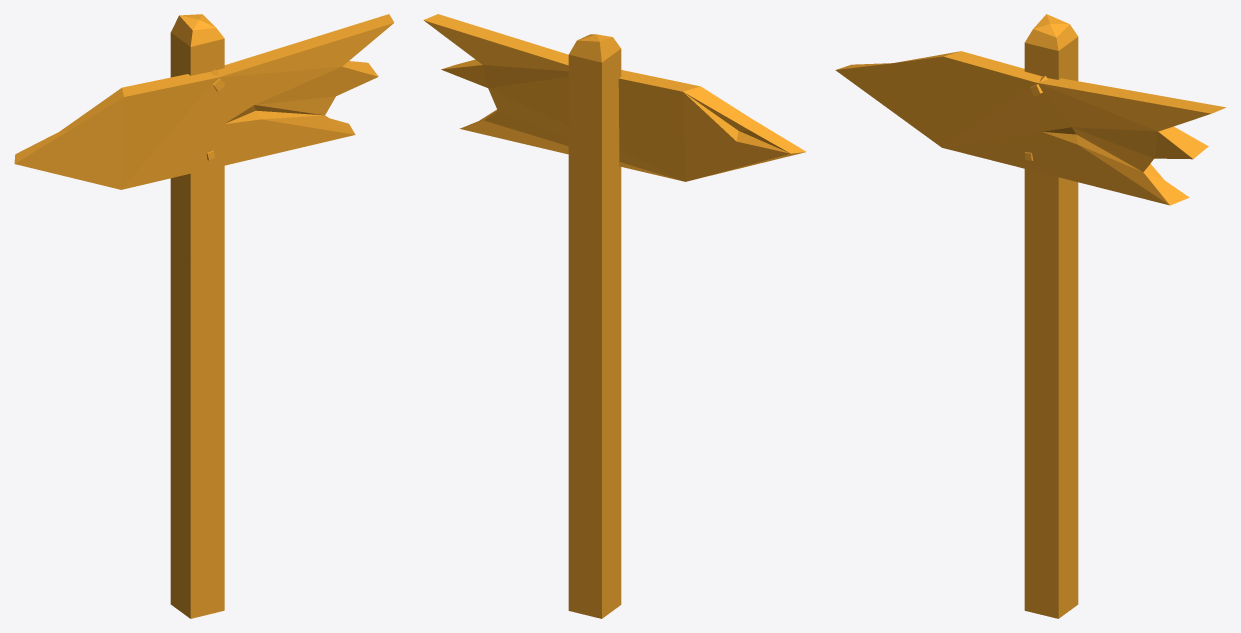
File: SM_Signpost_A_Fantasy.fbx
The picture shows the model from 3 angles, left to right: view 1: azimuth 30°, elevation 25°; view 2: azimuth 150°, elevation 25°; view 3: azimuth 330°, elevation 25°; orthographic projection. The views are drawn at different scales.
Visible parts, largest first — view 1: signpost-a-fantasy; view 2: signpost-a-fantasy; view 3: signpost-a-fantasy.
Part boxes in pixels (x1,y1,x2,y2): signpost-a-fantasy: [14, 14, 394, 618]; signpost-a-fantasy: [423, 14, 806, 618]; signpost-a-fantasy: [835, 14, 1226, 618].
Bounding box in the file's own units: 1 × 1.47 × 0.1321.
